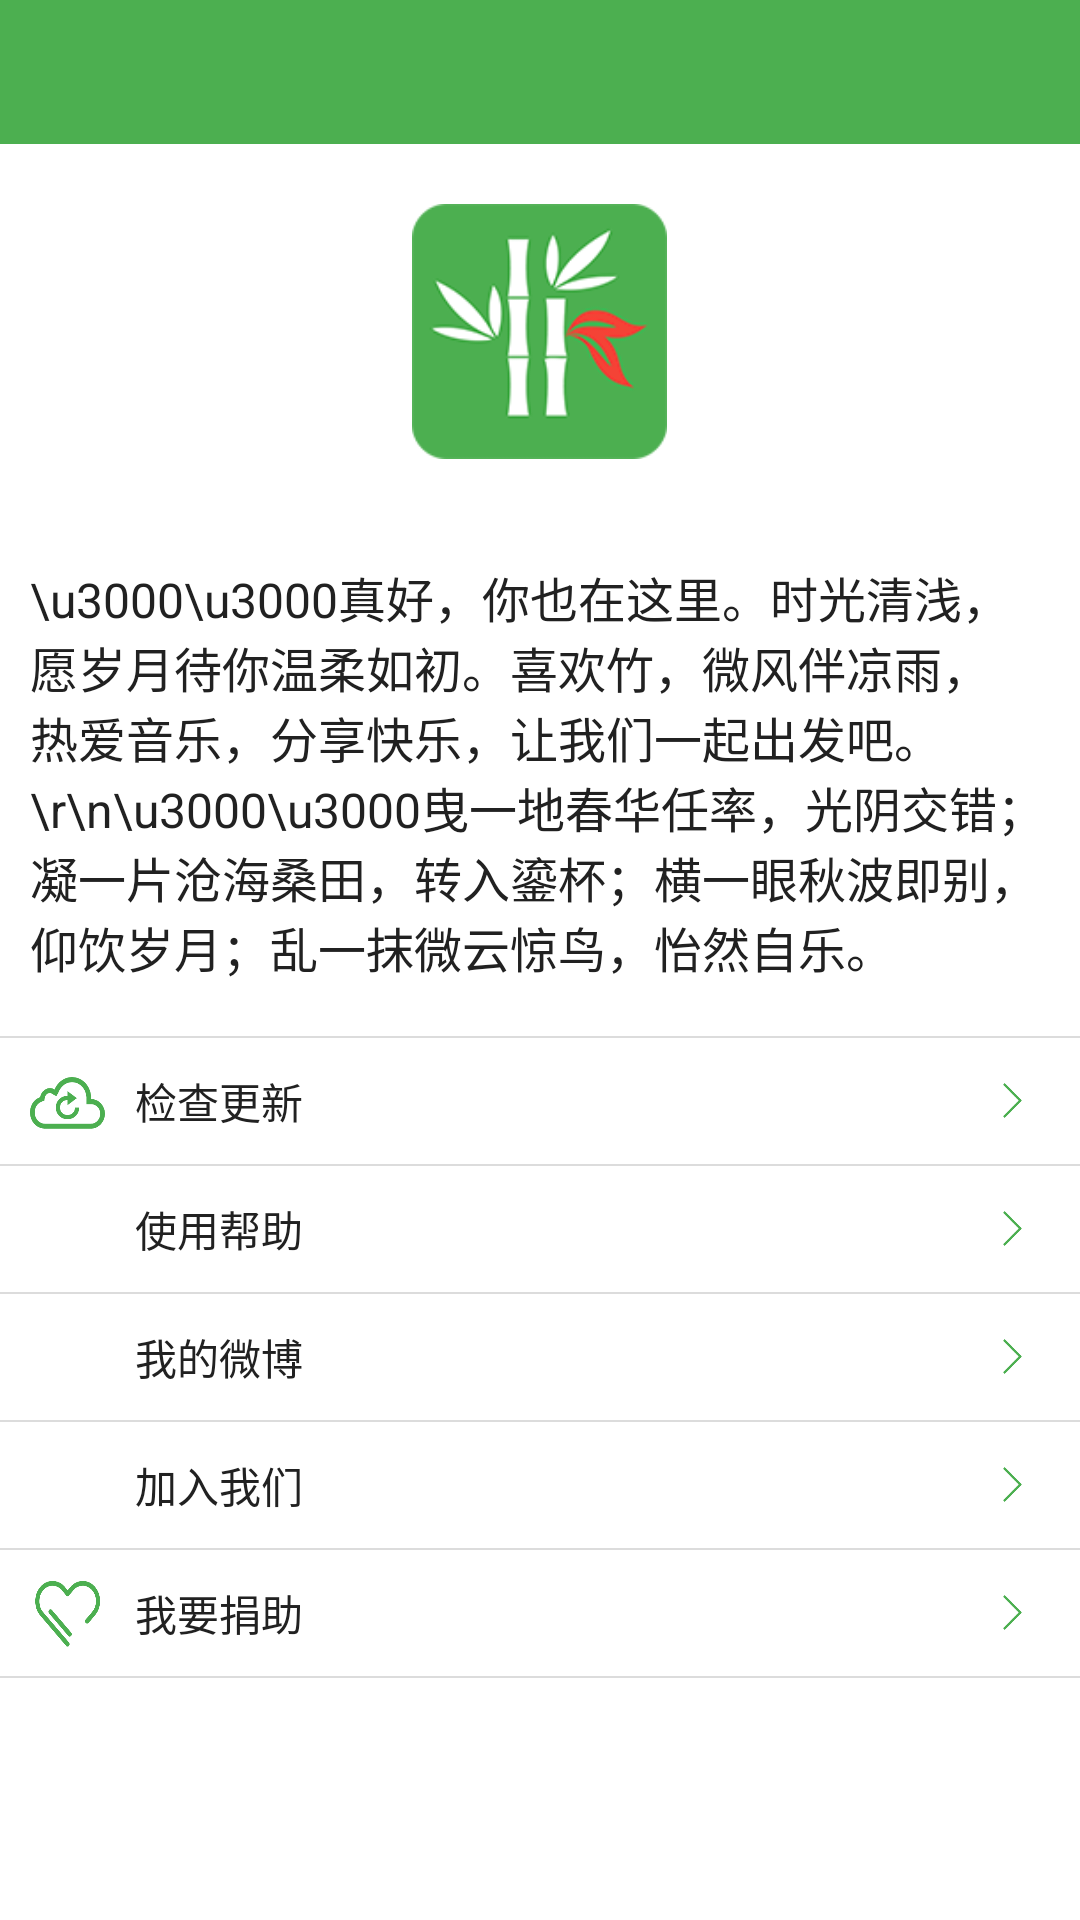

Locate icon controls on the screen. Image size 1080x1920, boxes as (x1, y1, x2, y2).
about donate: (35, 1581, 100, 1647)
about update: (30, 1077, 105, 1129)
forward: (1003, 1083, 1022, 1118), (1003, 1211, 1022, 1246), (1003, 1339, 1022, 1374), (1003, 1467, 1022, 1502), (1003, 1595, 1022, 1630)
